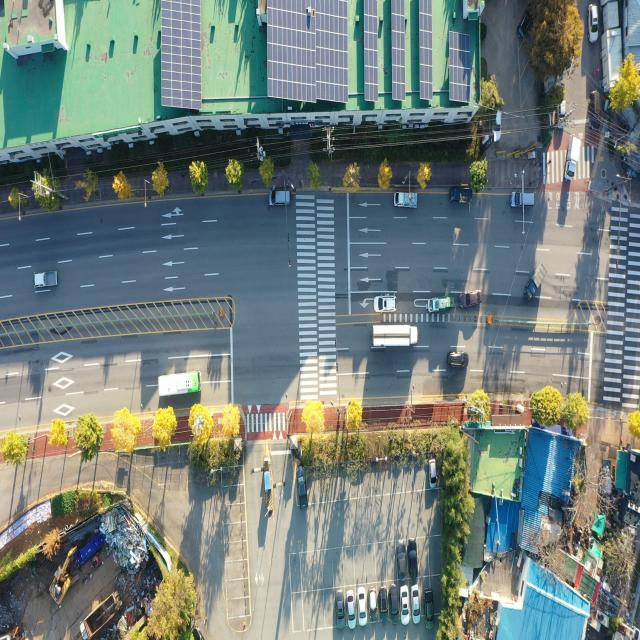car: (517, 2, 536, 42), (409, 540, 420, 580), (589, 92, 600, 131), (509, 193, 534, 210), (297, 466, 307, 508), (375, 294, 397, 312), (458, 290, 480, 308), (424, 587, 434, 626), (590, 5, 600, 44), (336, 591, 346, 628), (396, 544, 406, 580), (448, 351, 469, 368), (270, 192, 292, 208), (413, 585, 422, 624), (357, 588, 366, 626), (347, 591, 356, 628), (494, 108, 503, 141), (400, 587, 408, 624), (381, 588, 390, 618), (390, 589, 398, 621), (430, 457, 438, 487), (368, 589, 376, 617), (560, 101, 567, 127)
large_bus: (160, 372, 202, 398)
medium_truck: (79, 598, 121, 640), (369, 325, 416, 351)
small_truck: (566, 134, 582, 180), (525, 272, 542, 302), (33, 270, 57, 290), (601, 460, 613, 499), (393, 193, 418, 210), (450, 186, 472, 204), (429, 295, 452, 312)
